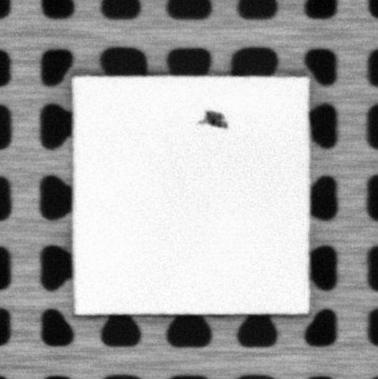DIE_INK: (198, 107, 228, 130)
